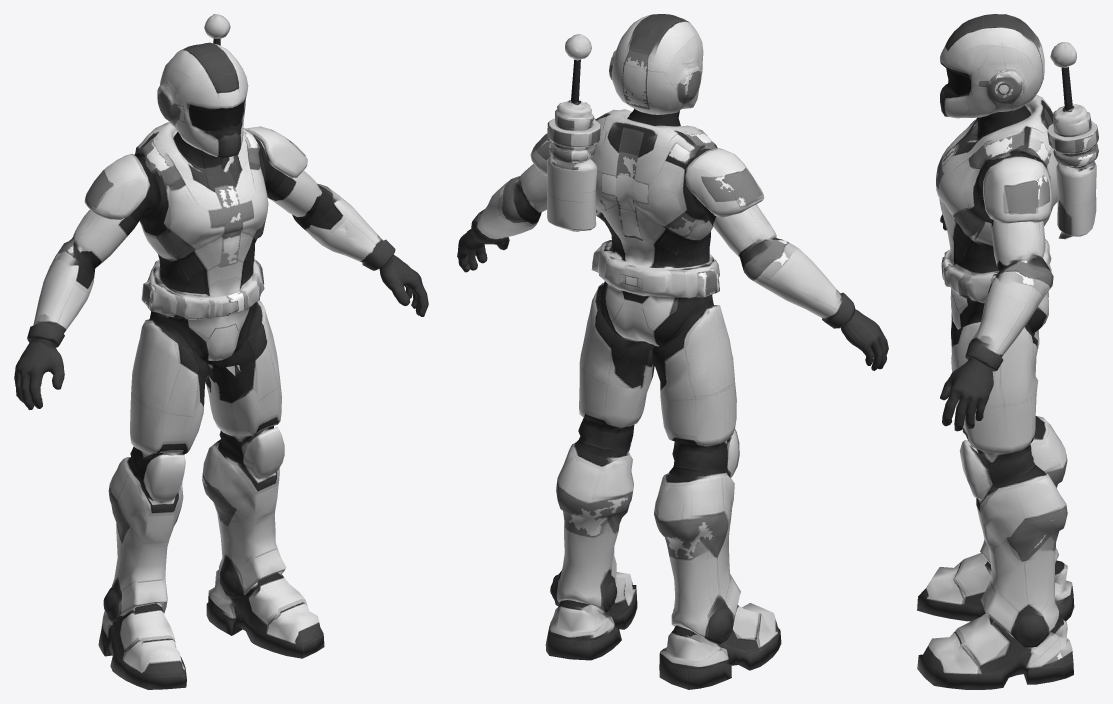
Rendered from nyra_body.glb.
3 views of the same model, side by side, from view 1: azimuth 30°, elevation 25°; view 2: azimuth 150°, elevation 25°; view 3: azimuth 270°, elevation 25° (orthographic). The views are drawn at different scales.
Visible parts, largest first — view 1: char1; view 2: char1; view 3: char1.
Part boxes in pixels (x1=…): char1: x1=14, y1=14, x2=428, y2=689; char1: x1=457, y1=14, x2=888, y2=689; char1: x1=917, y1=14, x2=1098, y2=689.
Bounding box in the file's own units: 1.27 × 1.8 × 0.4774.
1 material, 1 textured.
